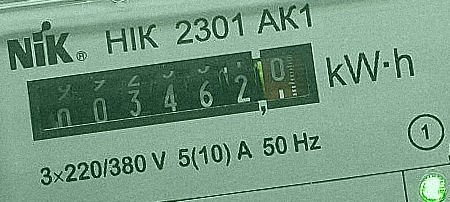0: (88, 93, 110, 124), (267, 54, 287, 84), (51, 104, 73, 129)
2: (230, 71, 253, 105)
3: (123, 86, 145, 120)
4: (159, 81, 180, 115)
6: (193, 76, 217, 112)
9: (51, 82, 74, 103)
screen: (11, 29, 332, 161)
